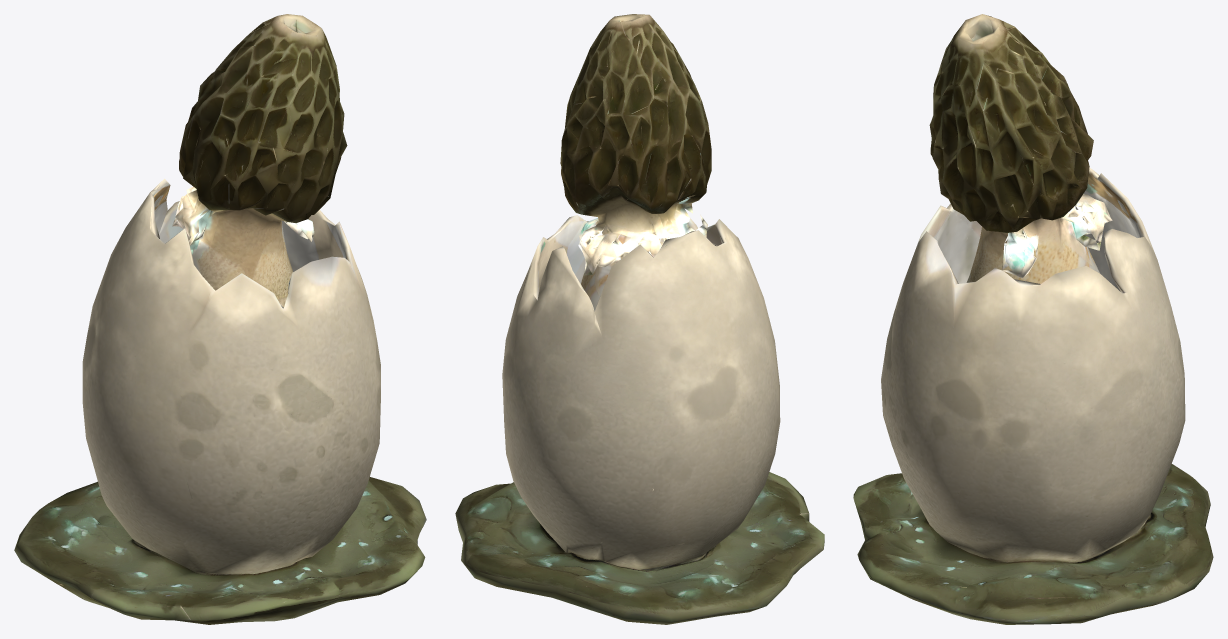
3 views of the same model, side by side, from view 1: azimuth 30°, elevation 25°; view 2: azimuth 150°, elevation 25°; view 3: azimuth 270°, elevation 25° (orthographic). The views are drawn at different scales.
Parts seen in each view (by area): view 1: Mesh_0; view 2: Mesh_0; view 3: Mesh_0.
Boxes of the visible parts, bbox=[...] form: Mesh_0: bbox=[14, 14, 426, 624]; Mesh_0: bbox=[455, 14, 824, 624]; Mesh_0: bbox=[853, 14, 1213, 624].
Size of the model in its own units: 1.27 by 1.91 by 1.12.
Materials: 1 (1 with a texture image).
